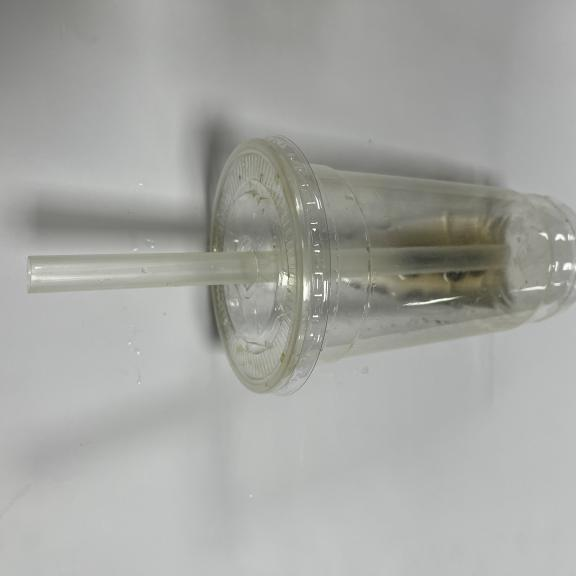Plastik: (210, 137, 575, 394)
